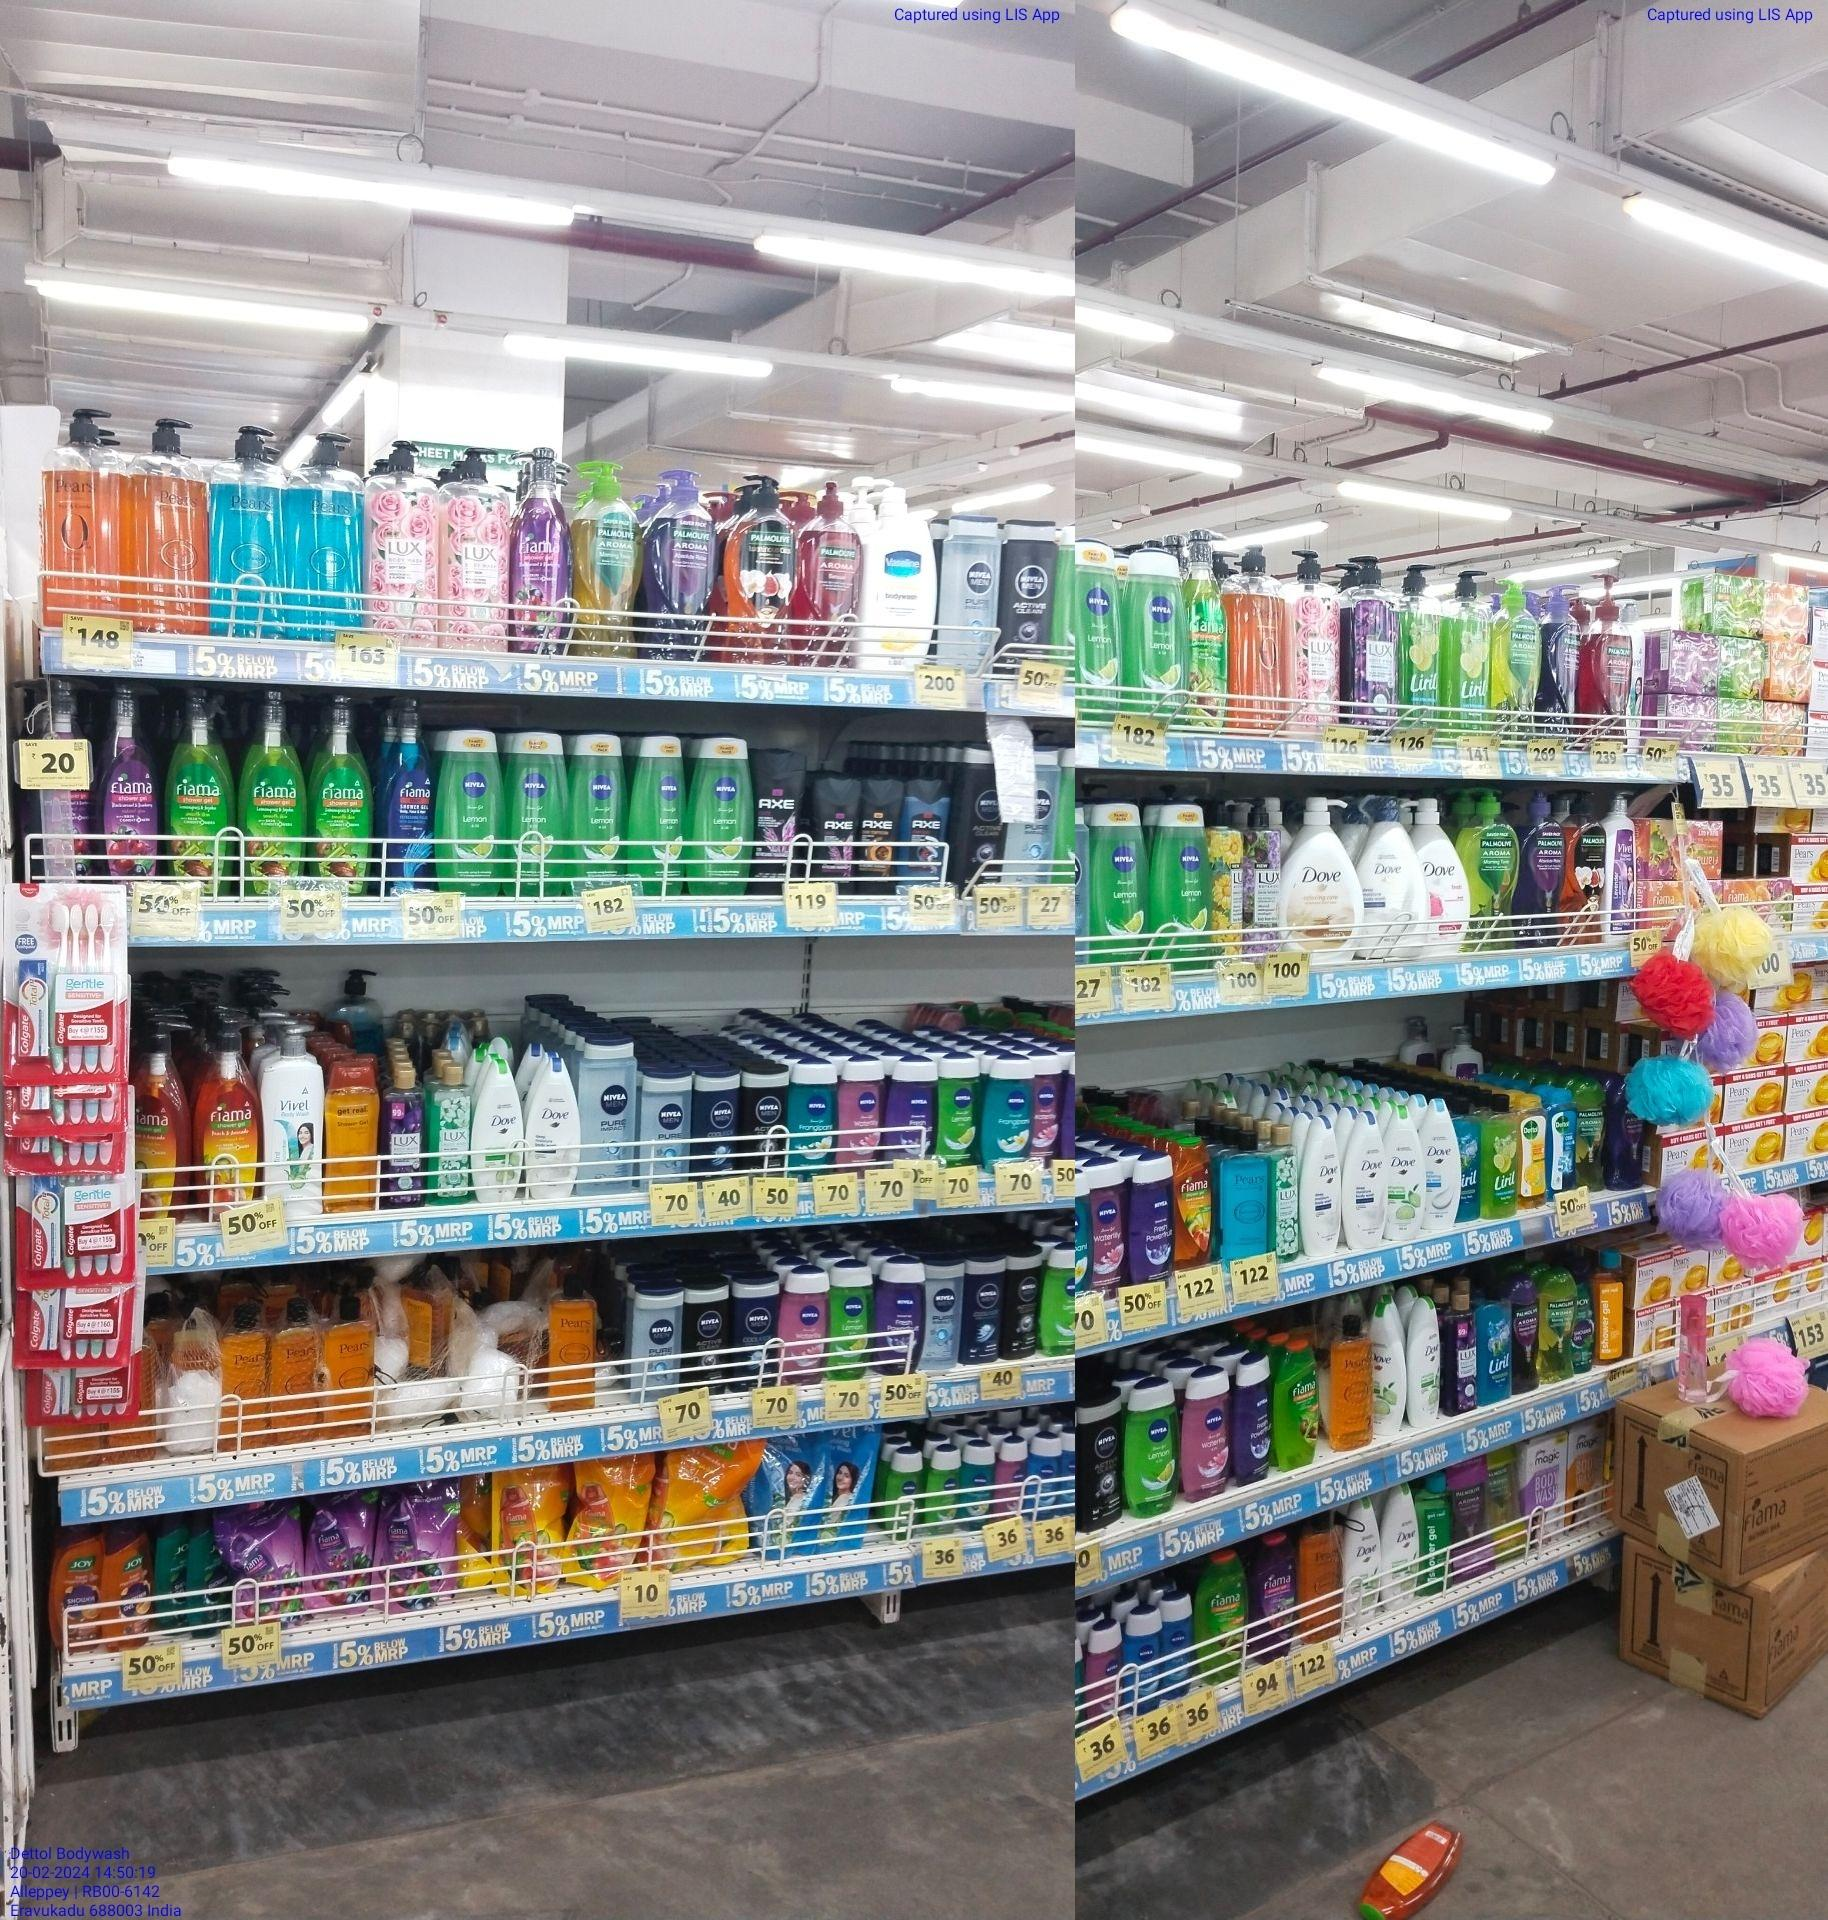Dettol_Bodywash_Cool: (1548, 1089, 1578, 1193)
Dettol_Bodywash_Refresh: (1521, 1095, 1547, 1207)
Dove_Deep_Moisture_Body_Wash_250ML: (528, 1056, 580, 1198), (1343, 1113, 1387, 1246), (1303, 1119, 1341, 1257)
Dove_Gentle_Exfoliating_Body_Wash_250ML: (1430, 1097, 1458, 1229)
Dove_Refreshing_Body_Wash_250ML: (475, 1058, 525, 1200), (1391, 1109, 1428, 1241), (1343, 1498, 1379, 1630), (1410, 1296, 1444, 1430), (1374, 1303, 1406, 1438), (1380, 1491, 1420, 1603)
Fiama_Shower_Gel_Lemongrass_and_Jojoba_250ML: (1194, 1550, 1248, 1678), (1274, 1337, 1320, 1469)
Fiama_Shower_Gel_Peach_and_Avocado_250ML: (1178, 1138, 1212, 1267)
Get_Real_Shower_Gel_Moisturising_Glycerin_300ML: (321, 1058, 379, 1212)
Joy_Shower_Gel_Mandarin_and_Lemongrass_250ML: (50, 1529, 101, 1649), (105, 1522, 151, 1649)
Joy_Shower_Gel_Mint_and_Eucalyptus_250ML: (156, 1515, 190, 1635), (1576, 1263, 1596, 1375)
Liril_Cooling_Mint_Body_Wash_250ML: (1480, 1279, 1512, 1406)
Liril_Lime_and_Tea_Tree_Oil_Body_Wash_250ML: (1482, 1094, 1518, 1221)
Lux_Black_Orchid_Scent_and_Juniper_Oil_Body_Wash_245ML: (382, 1066, 425, 1205), (1447, 1294, 1478, 1414)
Lux_Body_Wash_Skin_Detox_Freesia_Scent_and_Alove_Vera_245ML: (429, 1063, 472, 1202), (1274, 1126, 1298, 1257)
Nivea_Shower_Gel_Frangipani_and_Oil_250ML: (986, 1054, 1039, 1161), (792, 1061, 835, 1171)
Nivea_Shower_Gel_Fresh_Powerfruit_250ML: (878, 1258, 926, 1375), (888, 1056, 938, 1161), (1133, 1157, 1175, 1282), (1236, 1356, 1272, 1483)
Nivea_Shower_Gel_Lemon_and_Oil_250ML: (436, 727, 502, 893), (1128, 542, 1190, 720), (508, 730, 574, 895), (689, 732, 751, 897), (1089, 801, 1149, 965), (1152, 802, 1212, 963), (1075, 538, 1123, 727), (628, 734, 684, 874), (576, 732, 626, 883), (1125, 1375, 1176, 1517), (830, 1262, 875, 1380), (941, 1056, 983, 1162), (1039, 1241, 1075, 1354)
Nivea_Shower_Gel_Waterlily_and_Oil_250ML: (1180, 1375, 1233, 1498), (780, 1267, 825, 1387), (839, 1058, 885, 1173), (1091, 1157, 1130, 1286)
Palmolive_Aroma_Morning_Tonic_Shower_Gel_250ML: (1543, 1267, 1572, 1382), (1583, 1077, 1603, 1190)
Palmolive_Aroma_Relax_250ML: (1514, 1282, 1540, 1394), (1609, 1114, 1645, 1193)
Pears_Pure_Glycerin_and_Mint_Extracts_Body_Wash_250ML: (1218, 1130, 1272, 1253)
